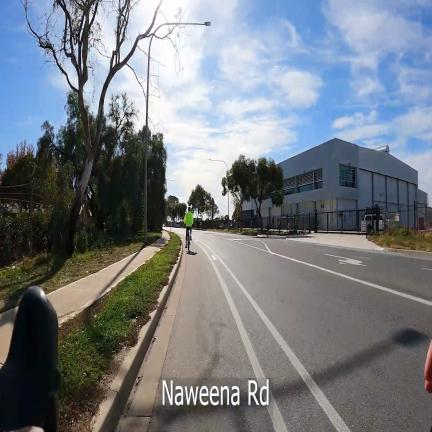Bike_Lane: (119, 249, 273, 432)
